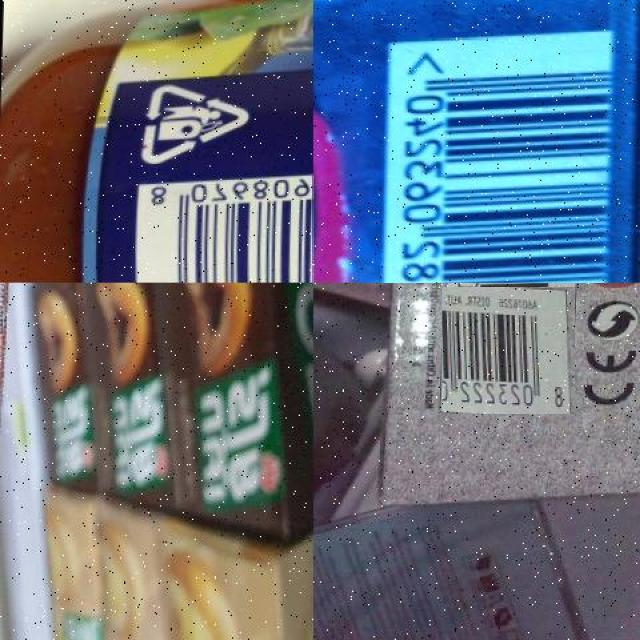Barcode: (379, 39, 613, 282), (134, 173, 314, 283), (443, 285, 574, 415)
